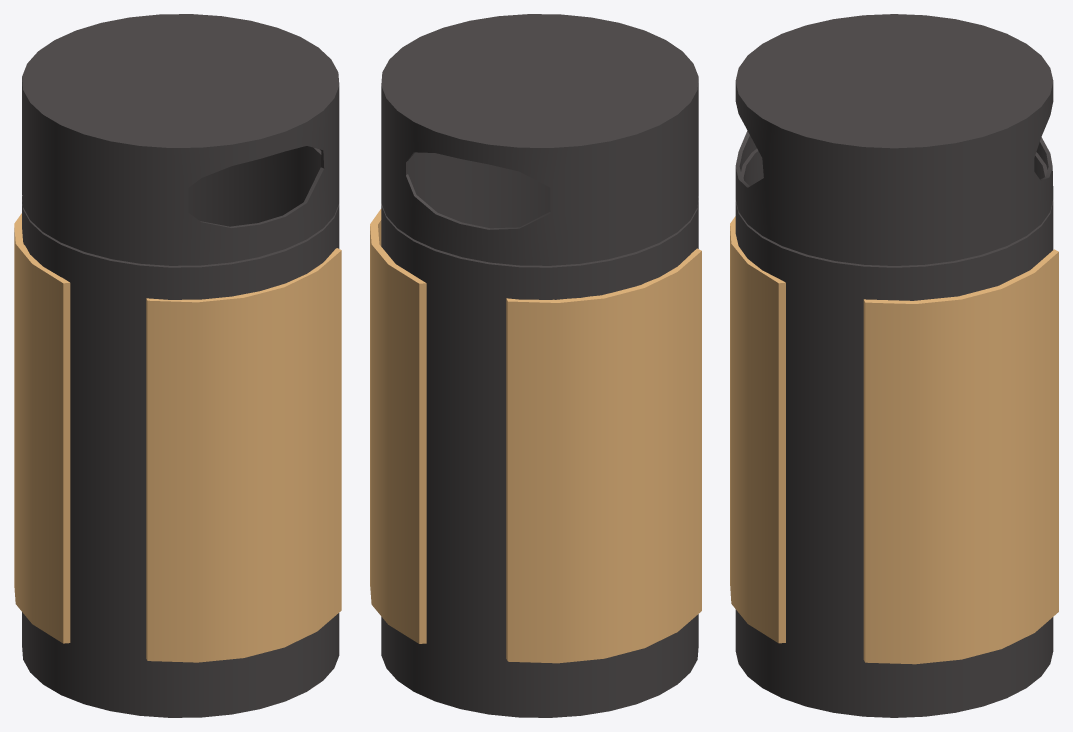
File: bin.fbx
3 views of the same model, side by side, from view 1: azimuth 30°, elevation 25°; view 2: azimuth 150°, elevation 25°; view 3: azimuth 270°, elevation 25° (orthographic).
Visible parts, largest first — view 1: Cylinder.002, Cylinder.004, bin, Cylinder.001; view 2: Cylinder.001, bin, Cylinder.004, Cylinder.003; view 3: Cylinder.003, Cylinder.004, bin, Cylinder.002.
Part boxes in pixels (<box>): Cylinder.002: <box>146,248,341,662</box>; Cylinder.004: <box>22,14,339,265</box>; bin: <box>22,146,339,717</box>; Cylinder.001: <box>14,213,70,643</box>; Cylinder.001: <box>506,248,701,663</box>; bin: <box>381,152,698,717</box>; Cylinder.004: <box>381,14,698,265</box>; Cylinder.003: <box>370,209,426,643</box>; Cylinder.003: <box>863,249,1058,664</box>; Cylinder.004: <box>735,14,1053,265</box>; bin: <box>735,148,1053,717</box>; Cylinder.002: <box>730,216,785,643</box>.
Bounding box in the file's own units: 83.94 × 158 × 82.79.
